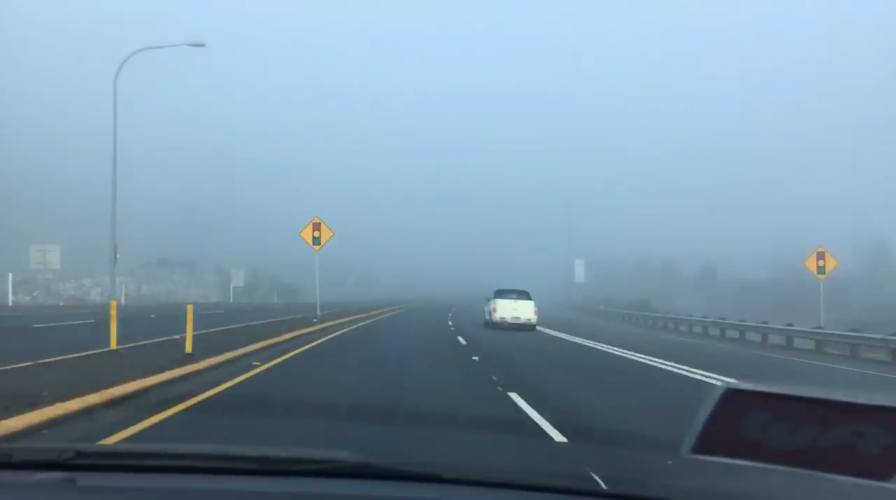car: (483, 287, 537, 326)
